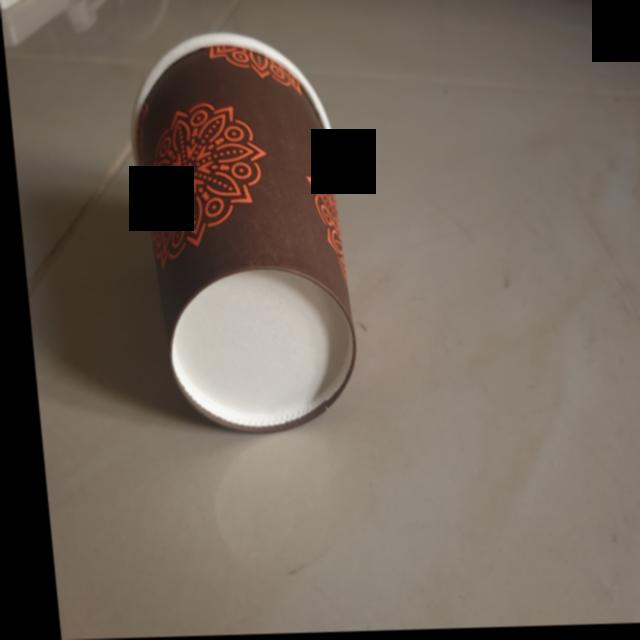cups: (122, 23, 363, 439)
